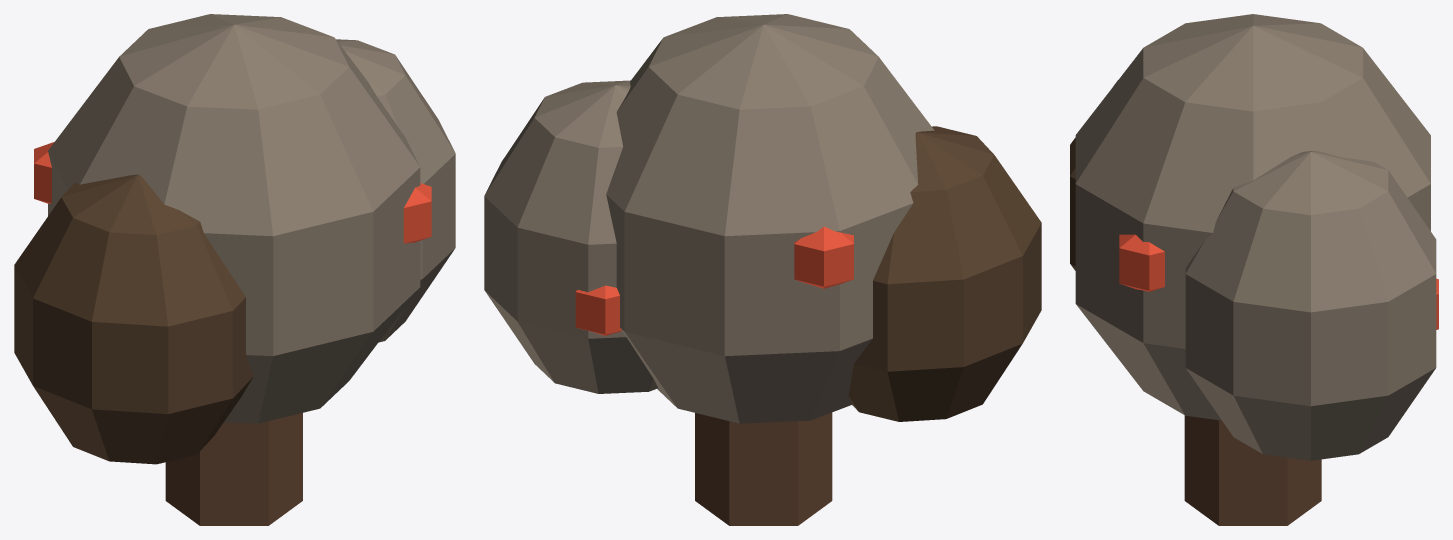
Rendered from bush_winter.glb.
3 renders of one model, left to right at view 1: azimuth 30°, elevation 25°; view 2: azimuth 150°, elevation 25°; view 3: azimuth 270°, elevation 25°, orthographic.
Parts seen in each view (by area): view 1: Bush_round_foliage, Bush_round_foliage.001, Bush_woody_stem, Bush_round_foliage.002, Bush_red_berry.001, Bush_red_berry.003; view 2: Bush_round_foliage, Bush_round_foliage.001, Bush_round_foliage.002, Bush_woody_stem, Bush_red_berry.003, Bush_red_berry.002; view 3: Bush_round_foliage, Bush_round_foliage.002, Bush_woody_stem, Bush_red_berry.001, Bush_round_foliage.001.
Part boxes in pixels (x1=…): Bush_round_foliage: x1=48, y1=14, x2=420, y2=423; Bush_round_foliage.001: x1=14, y1=174, x2=253, y2=464; Bush_woody_stem: x1=165, y1=413, x2=302, y2=525; Bush_round_foliage.002: x1=336, y1=39, x2=455, y2=342; Bush_red_berry.001: x1=403, y1=183, x2=431, y2=243; Bush_red_berry.003: x1=34, y1=142, x2=54, y2=203; Bush_round_foliage: x1=606, y1=14, x2=934, y2=423; Bush_round_foliage.001: x1=848, y1=126, x2=1041, y2=421; Bush_round_foliage.002: x1=484, y1=80, x2=657, y2=393; Bush_woody_stem: x1=695, y1=412, x2=832, y2=525; Bush_red_berry.003: x1=794, y1=226, x2=853, y2=288; Bush_red_berry.002: x1=575, y1=285, x2=621, y2=335; Bush_round_foliage: x1=1075, y1=14, x2=1430, y2=420; Bush_round_foliage.002: x1=1185, y1=151, x2=1436, y2=460; Bush_woody_stem: x1=1184, y1=415, x2=1321, y2=525; Bush_red_berry.001: x1=1119, y1=234, x2=1164, y2=291; Bush_round_foliage.001: x1=1070, y1=80, x2=1117, y2=270.
Bounding box in the file's own units: 0.74 × 0.726 × 0.5109.
